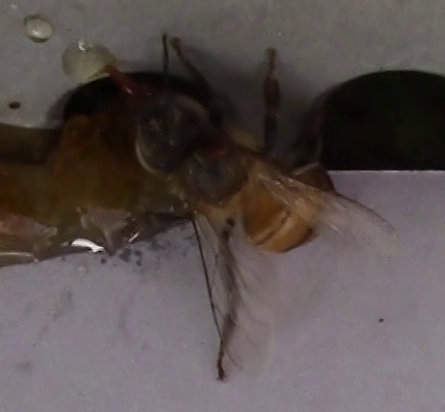Varroa destructor: (198, 134, 234, 159)
